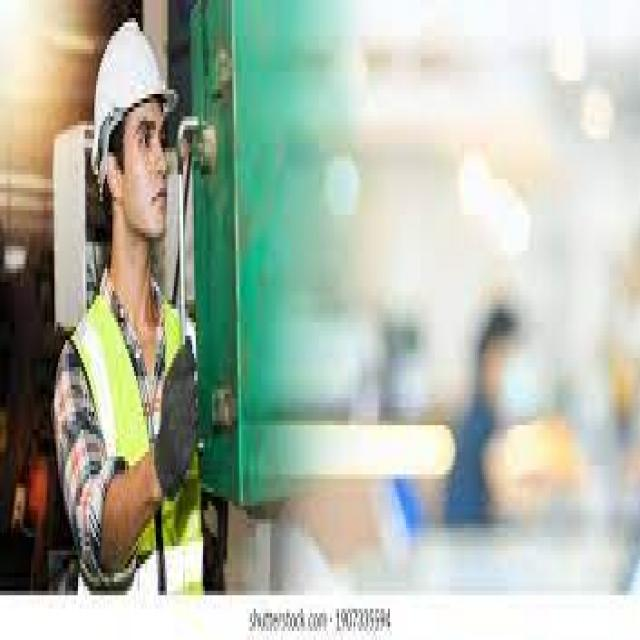Reflective-Jacket: (60, 282, 210, 609)
Safety-Helmet: (85, 13, 174, 170)
